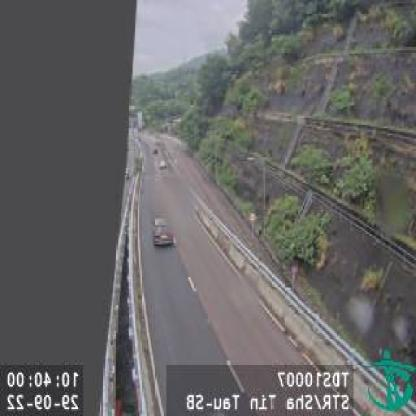Car: (153, 215, 177, 250)
